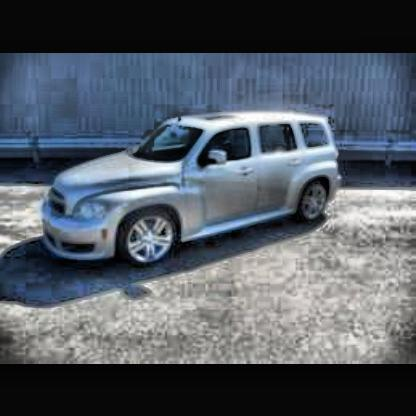Chevrolet HHR SS 2010: (41, 112, 346, 274)
